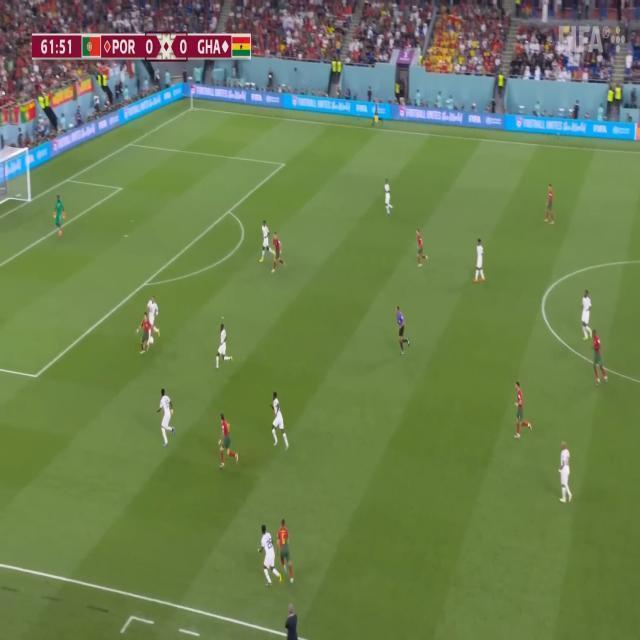player: (275, 510, 298, 588), (257, 524, 282, 591), (217, 410, 240, 478), (556, 438, 577, 508), (271, 388, 290, 457), (514, 380, 532, 451), (159, 385, 176, 450), (591, 326, 609, 386), (217, 319, 232, 376), (581, 285, 595, 344), (136, 312, 154, 354), (544, 177, 557, 230), (53, 190, 66, 242), (476, 234, 487, 292), (261, 221, 274, 266), (148, 295, 160, 341), (274, 234, 286, 278), (417, 227, 429, 271), (383, 174, 394, 219)
